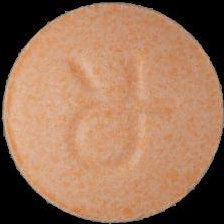0904-5657: (0, 0, 224, 224)
